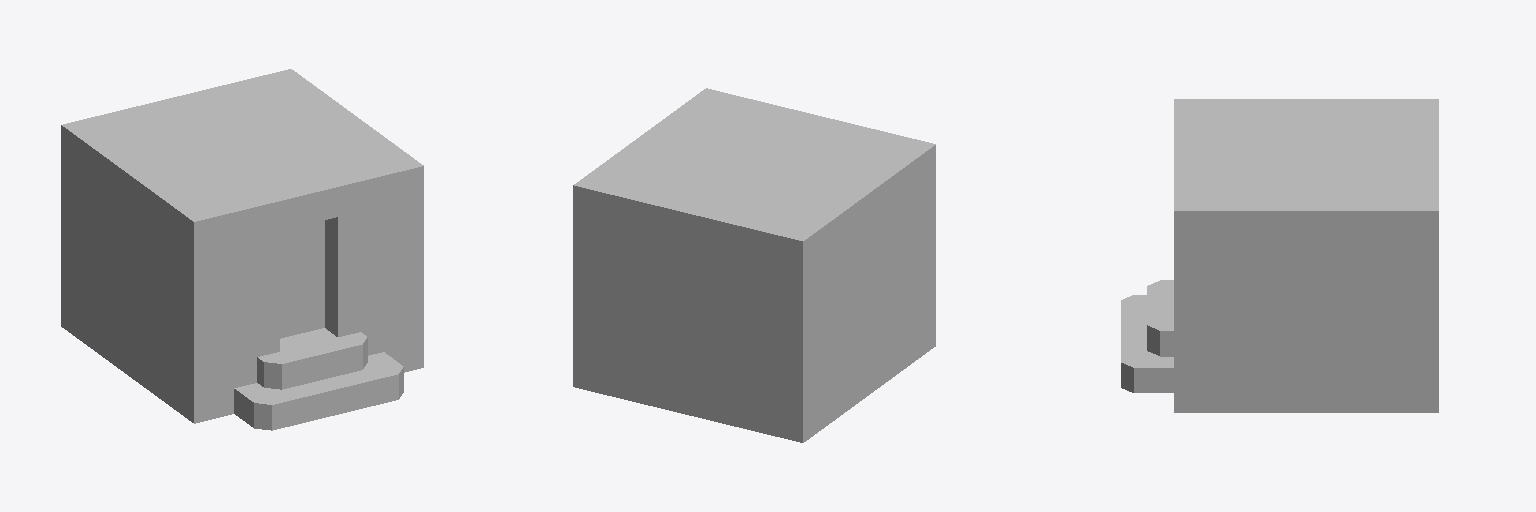
File: building-steps-wide.obj
3 renders of one model, left to right at view 1: azimuth 30°, elevation 25°; view 2: azimuth 150°, elevation 25°; view 3: azimuth 270°, elevation 25°, orthographic.
Visible parts, largest first — view 1: building-steps-wide; view 2: building-steps-wide; view 3: building-steps-wide.
Part boxes in pixels (x1,y1,x2,y2): building-steps-wide: (61,69,423,430); building-steps-wide: (573,88,935,442); building-steps-wide: (1121,99,1438,412).
Size of the model in its own units: 1 by 0.8375 by 1.2.